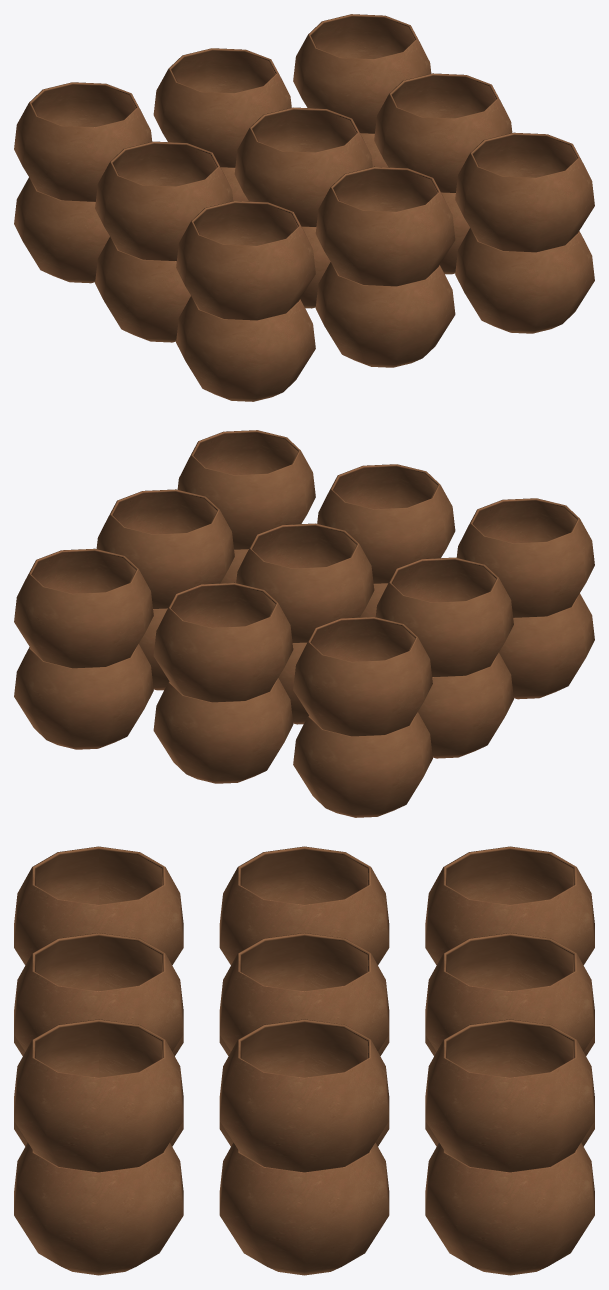
The model's file is BigBowl_Group.fbx.
The picture shows the model from 3 angles, top to bottom: view 1: azimuth 30°, elevation 25°; view 2: azimuth 150°, elevation 25°; view 3: azimuth 270°, elevation 25°; orthographic projection. The views are drawn at different scales.
Visible parts, largest first — view 1: Pottery_BigBowl15, Pottery_BigBowl16, Pottery_BigBowl17, Pottery_BigBowl9, Pottery_BigBowl14, Pottery_BigBowl11, Pottery_BigBowl10, Pottery_BigBowl12, Pottery_BigBowl13, Pottery_BigBowl8, Pottery_BigBowl7, Pottery_BigBowl6 (+4 smaller); view 2: Pottery_BigBowl9, Pottery_BigBowl10, Pottery_BigBowl11, Pottery_BigBowl15, Pottery_BigBowl14, Pottery_BigBowl17, Pottery_BigBowl16, Pottery_BigBowl12, Pottery_BigBowl13, Pottery_BigBowl, Pottery_BigBowl1, Pottery_BigBowl2 (+4 smaller); view 3: Pottery_BigBowl12, Pottery_BigBowl11, Pottery_BigBowl17, Pottery_BigBowl3, Pottery_BigBowl2, Pottery_BigBowl6, Pottery_BigBowl13, Pottery_BigBowl14, Pottery_BigBowl10, Pottery_BigBowl16, Pottery_BigBowl9, Pottery_BigBowl15.
Boxes of the visible parts, bbox=[...] form: Pottery_BigBowl15: bbox=[176, 201, 315, 320]; Pottery_BigBowl16: bbox=[315, 166, 455, 286]; Pottery_BigBowl17: bbox=[455, 132, 594, 252]; Pottery_BigBowl9: bbox=[14, 82, 152, 201]; Pottery_BigBowl14: bbox=[95, 141, 233, 260]; Pottery_BigBowl11: bbox=[293, 14, 431, 133]; Pottery_BigBowl10: bbox=[153, 48, 291, 167]; Pottery_BigBowl12: bbox=[374, 73, 512, 192]; Pottery_BigBowl13: bbox=[234, 107, 372, 226]; Pottery_BigBowl8: bbox=[176, 296, 315, 401]; Pottery_BigBowl7: bbox=[315, 262, 455, 367]; Pottery_BigBowl6: bbox=[455, 228, 594, 333]; Pottery_BigBowl9: bbox=[293, 617, 432, 736]; Pottery_BigBowl10: bbox=[153, 582, 293, 702]; Pottery_BigBowl11: bbox=[14, 548, 153, 668]; Pottery_BigBowl15: bbox=[456, 498, 594, 617]; Pottery_BigBowl14: bbox=[375, 557, 513, 676]; Pottery_BigBowl17: bbox=[177, 430, 315, 549]; Pottery_BigBowl16: bbox=[317, 464, 455, 583]; Pottery_BigBowl12: bbox=[96, 489, 234, 608]; Pottery_BigBowl13: bbox=[236, 523, 374, 642]; Pottery_BigBowl: bbox=[293, 712, 432, 817]; Pottery_BigBowl1: bbox=[153, 678, 293, 783]; Pottery_BigBowl2: bbox=[14, 644, 153, 749]; Pottery_BigBowl12: bbox=[219, 1019, 389, 1172]; Pottery_BigBowl11: bbox=[425, 1019, 594, 1172]; Pottery_BigBowl17: bbox=[14, 1019, 183, 1172]; Pottery_BigBowl3: bbox=[219, 1142, 389, 1275]; Pottery_BigBowl2: bbox=[425, 1142, 594, 1275]; Pottery_BigBowl6: bbox=[14, 1142, 183, 1275]; Pottery_BigBowl13: bbox=[219, 933, 389, 1051]; Pottery_BigBowl14: bbox=[219, 846, 389, 964]; Pottery_BigBowl10: bbox=[425, 933, 594, 1051]; Pottery_BigBowl16: bbox=[14, 933, 183, 1051]; Pottery_BigBowl9: bbox=[425, 846, 594, 965]; Pottery_BigBowl15: bbox=[14, 846, 183, 965].
Bounding box in the file's own units: 44.63 × 17.46 × 44.14.
